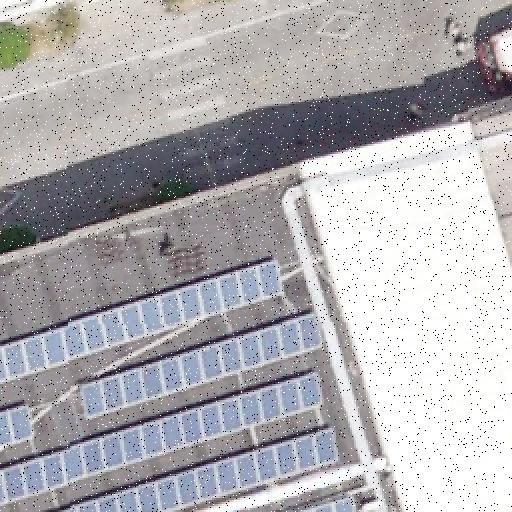solar-panel: (0, 370, 328, 506), (1, 259, 287, 381), (80, 311, 328, 417), (55, 425, 345, 511), (1, 401, 39, 447), (299, 496, 357, 512)
